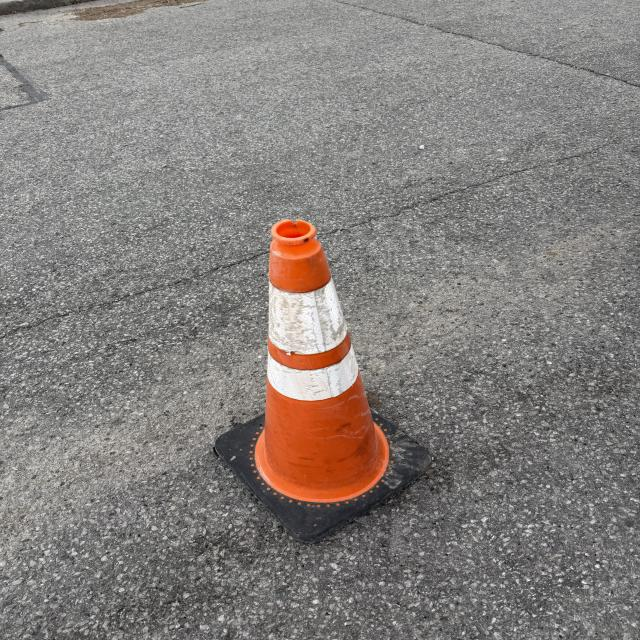Traffic Cone: (213, 217, 439, 544)
